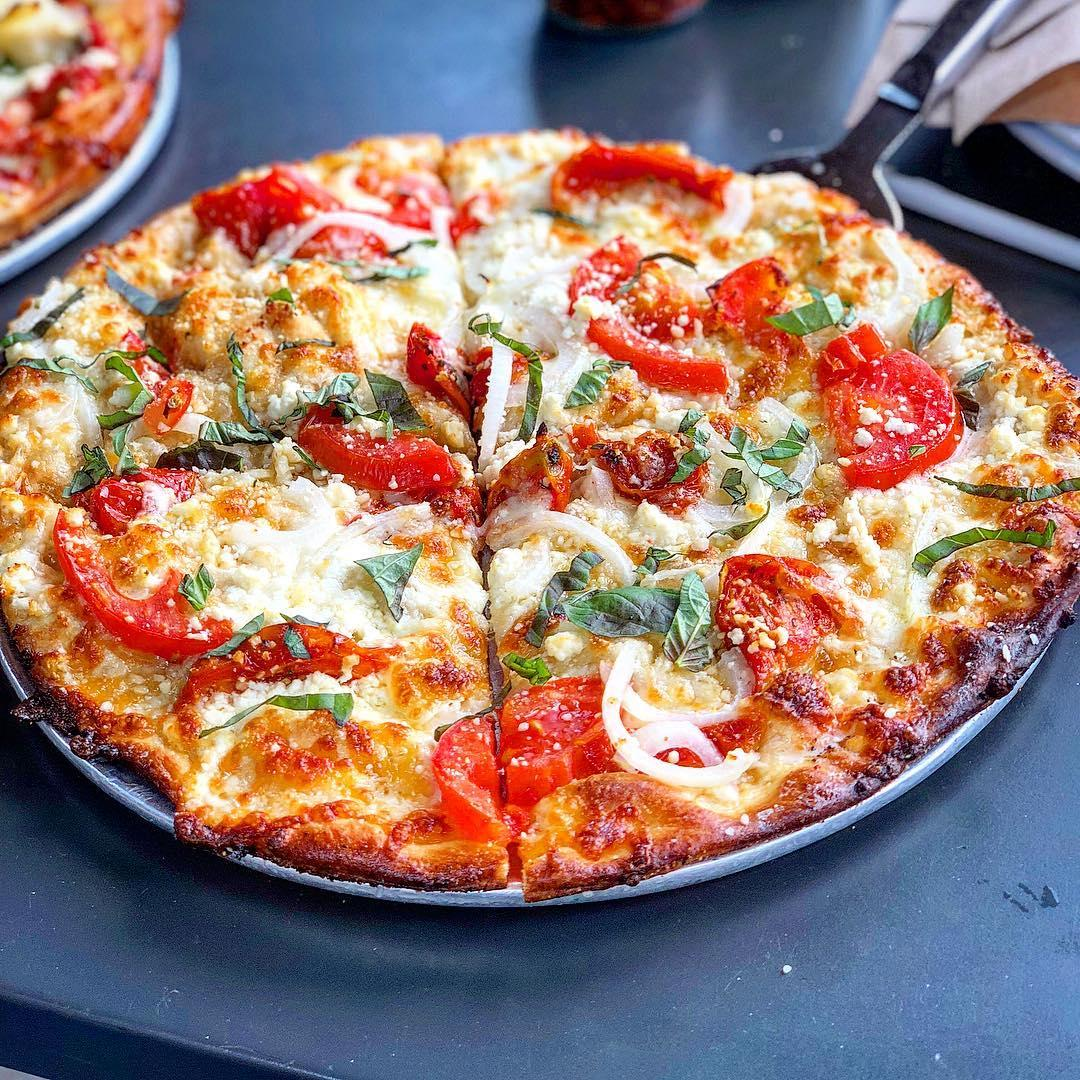Cheese: (288, 528, 556, 658), (512, 418, 768, 538), (354, 234, 585, 365)
Onion: (585, 645, 764, 793), (853, 233, 946, 354), (507, 501, 644, 576)
Pepperoni: (45, 456, 248, 651), (581, 234, 781, 394), (201, 168, 434, 285), (444, 691, 645, 818), (287, 398, 494, 514), (708, 541, 851, 703), (805, 323, 958, 474), (554, 134, 718, 236)
Pizza: (1, 134, 1080, 900), (0, 0, 171, 284)
